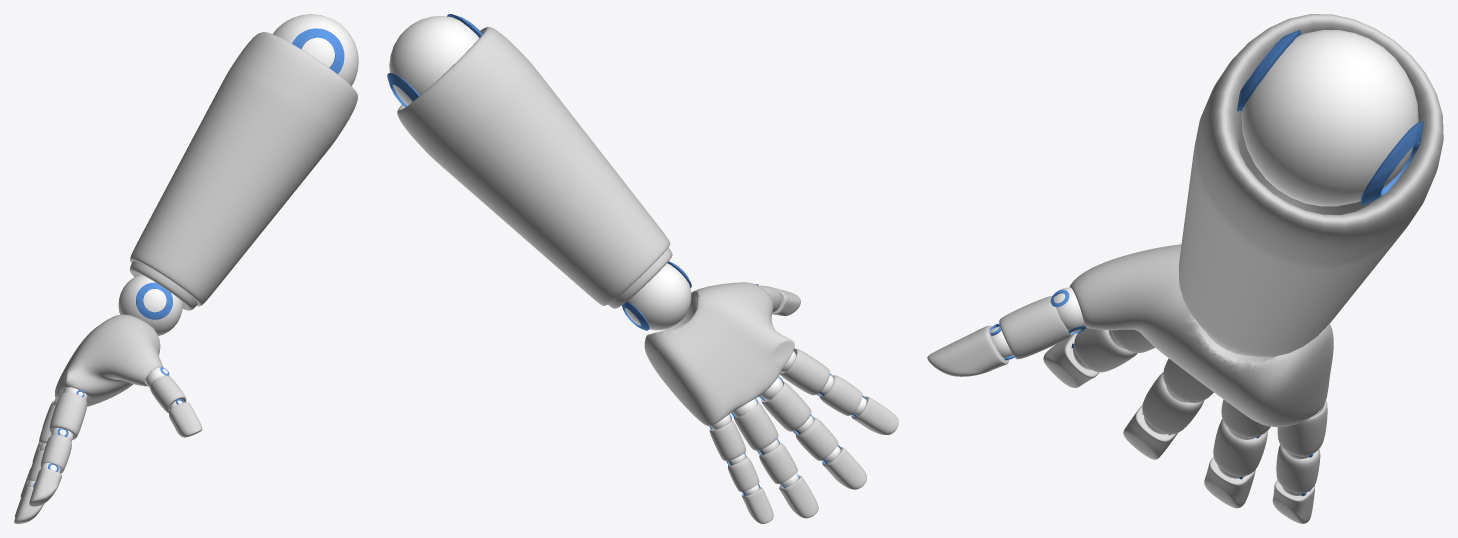
File: hand color.glb
3 views of the same model, side by side, from view 1: azimuth 30°, elevation 25°; view 2: azimuth 150°, elevation 25°; view 3: azimuth 270°, elevation 25° (orthographic). The views are drawn at different scales.
Visible parts, largest first — view 1: Cube.008; view 2: Cube.008; view 3: Cube.008.
Boxes of the visible parts, left/top/right/bottom form: Cube.008: left=14, top=14, right=358, bottom=523; Cube.008: left=387, top=14, right=898, bottom=523; Cube.008: left=927, top=14, right=1443, bottom=523.
Bounding box in the file's own units: 23.95 × 23.42 × 14.55.
